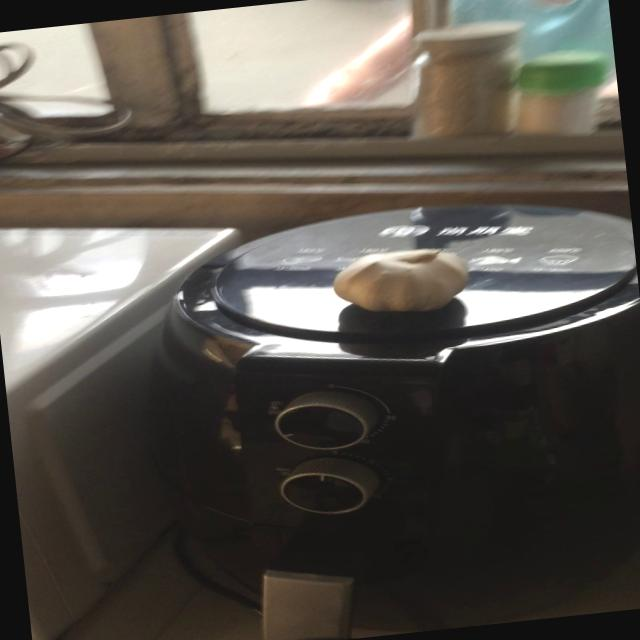bawang: (321, 236, 484, 324)
